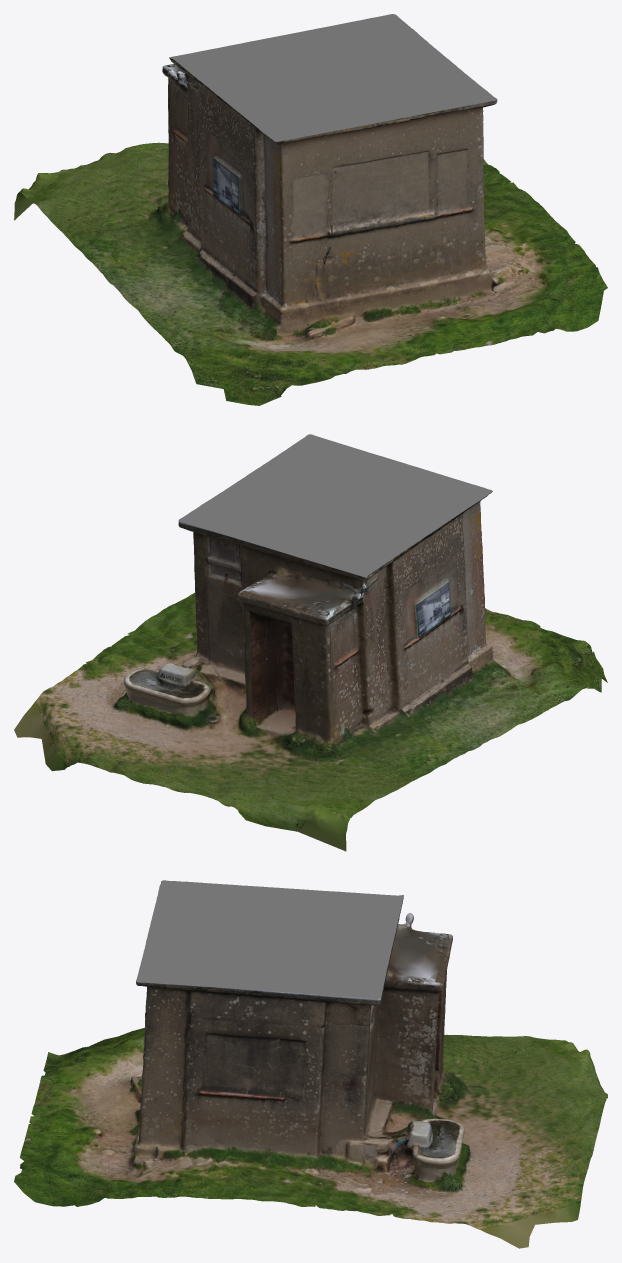
Rendered from putsborough__wwii_observation_post.glb.
3 views of the same model, one above another, from view 1: azimuth 30°, elevation 25°; view 2: azimuth 150°, elevation 25°; view 3: azimuth 270°, elevation 25° (orthographic). The views are drawn at different scales.
Parts seen in each view (by area): view 1: Object_2; view 2: Object_2; view 3: Object_2.
Boxes of the visible parts, x1,y1,x2,y2 form: Object_2: (14, 14, 607, 405); Object_2: (14, 434, 607, 851); Object_2: (14, 880, 607, 1248).
Bounding box in the file's own units: 7.87 × 3.83 × 9.4.
Materials: 1 (1 with a texture image).
